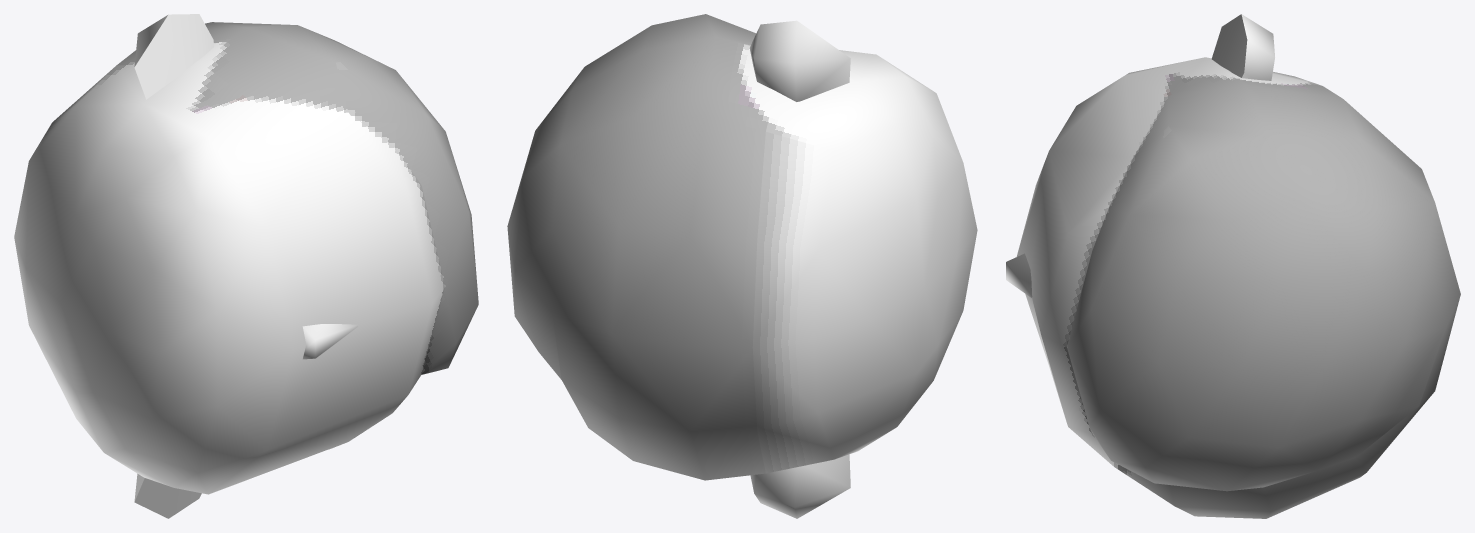
The model's file is boy10a.dae.
3 renders of one model, left to right at view 1: azimuth 30°, elevation 25°; view 2: azimuth 150°, elevation 25°; view 3: azimuth 270°, elevation 25°, orthographic. The views are drawn at different scales.
Visible parts, largest first — view 1: boy10a; view 2: boy10a; view 3: boy10a.
Part boxes in pixels (<box>): boy10a: <box>14,14,478,518</box>; boy10a: <box>507,14,977,518</box>; boy10a: <box>1006,14,1460,518</box>.
Bounding box in the file's own units: 21.58 × 26.71 × 22.49.
Materials: 3 (1 with a texture image).
